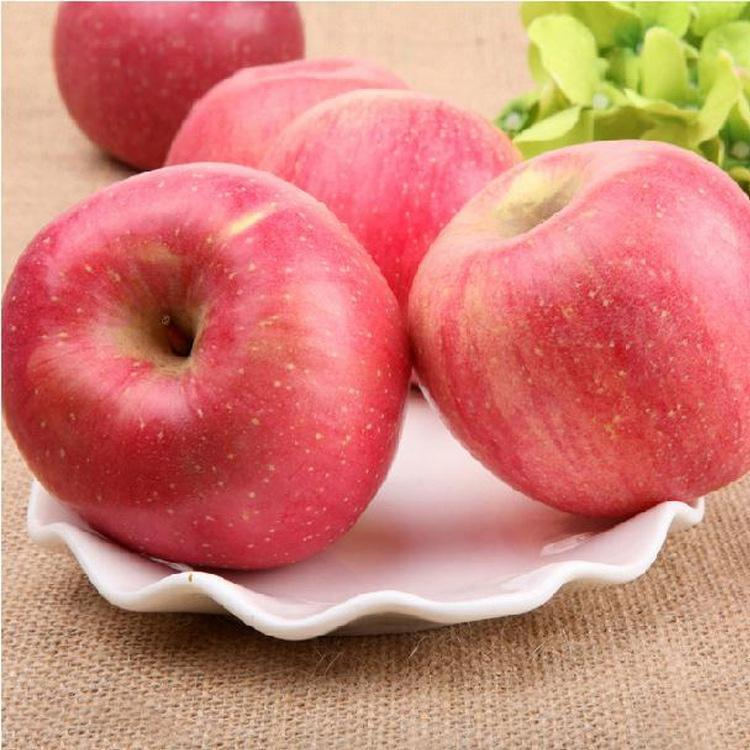apple: (2, 162, 408, 572), (407, 138, 750, 516), (260, 92, 527, 385), (53, 3, 312, 168), (163, 58, 419, 172)
